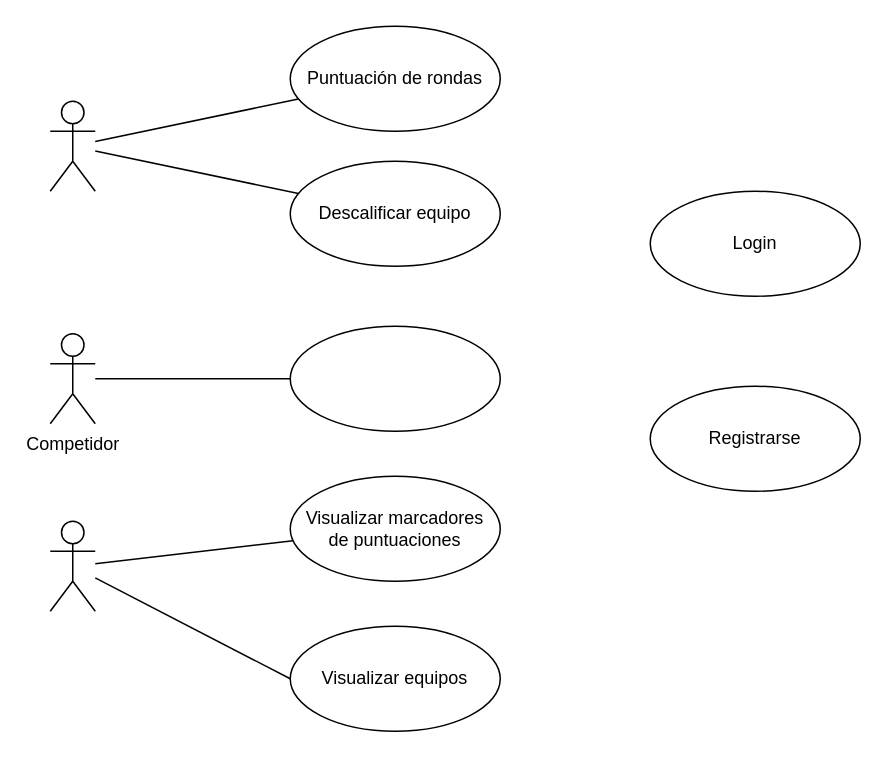
The diagram is 887 pixels wide and 758 high, and some of its shapes have lost their labels. The shapes that lost their labels are listed below. From the top down, each one's centre as x and y in pixels, then its label:
(x=72, y=145): Arbitro
(x=394, y=378): Registro de equipo
(x=72, y=565): Visitante
